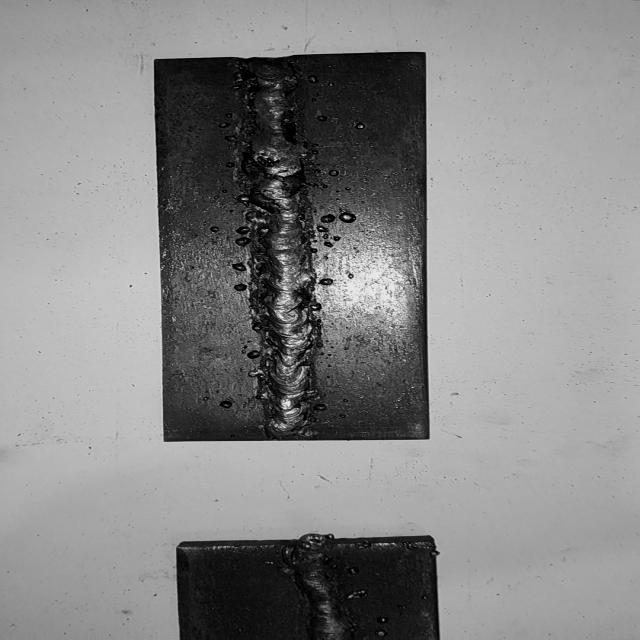Good Weld: (245, 59, 316, 433), (296, 541, 348, 640)
